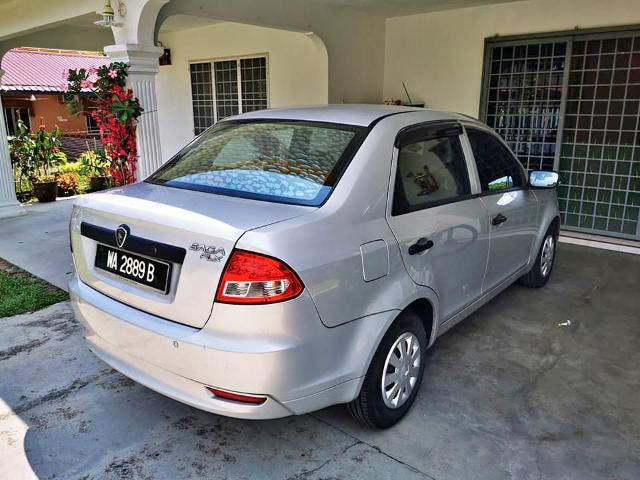License_Plate: (97, 246, 160, 289)
car: (60, 103, 576, 433)
